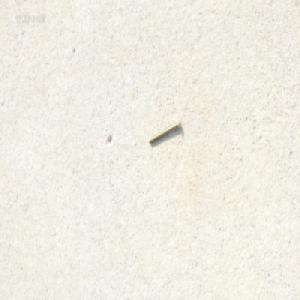Bolt: (147, 117, 180, 144)
